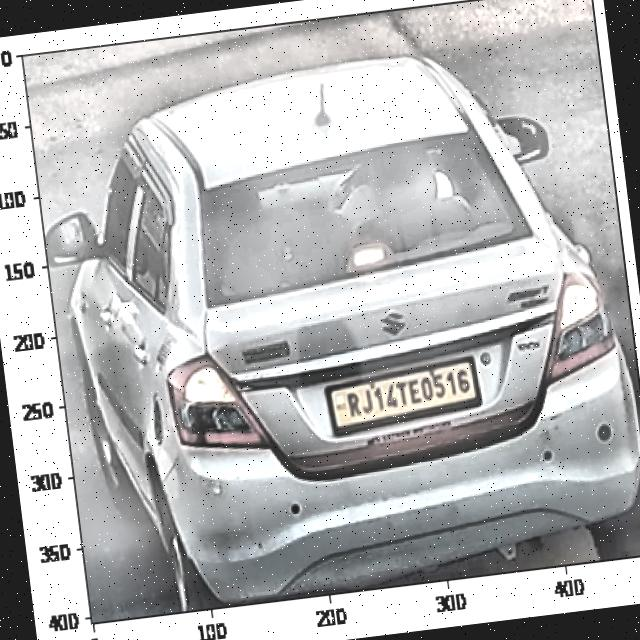license_plate: (337, 365, 480, 422)
